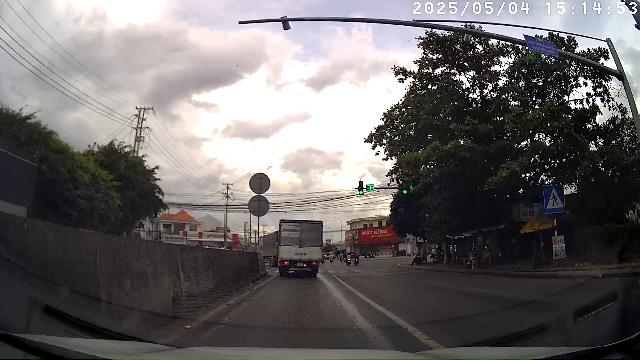423a-duong-nguoi-di-bo-sang-ngang-1: (544, 186, 566, 212)
